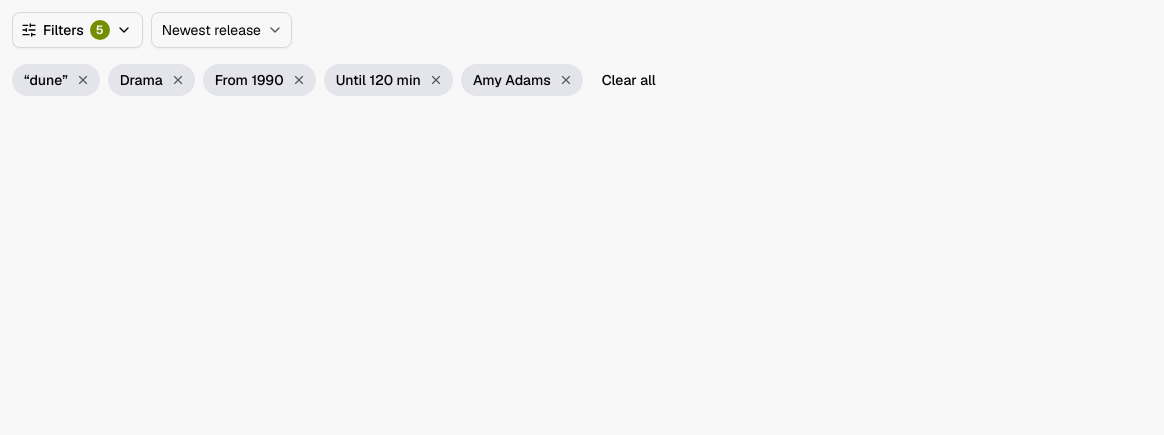
Test: MovieFilters › opens on the title, its fields filled from the URL
What coordinates should you click on to do the following:
click the button "Filters 5"
I would click on:
 (77, 30)
Its box is [12,12,143,48].
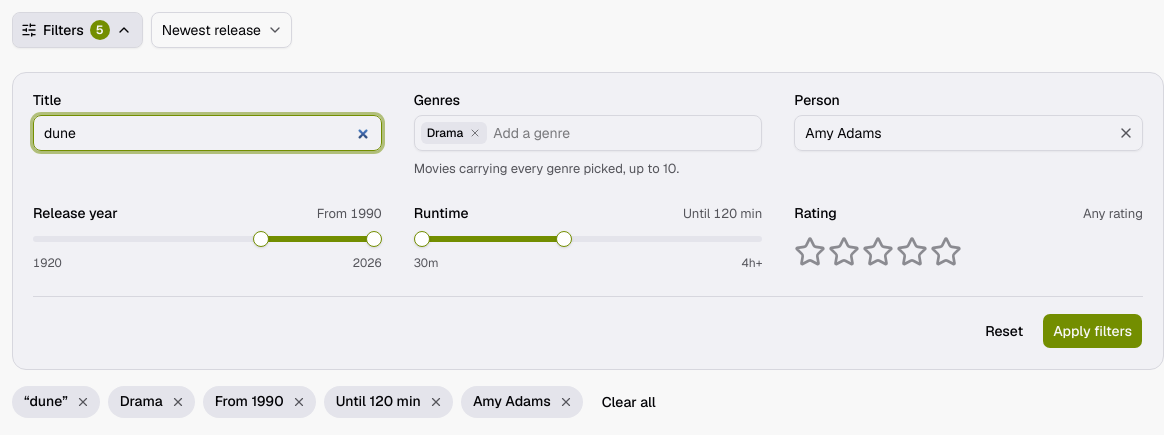
Check: the button "Filters 5" is expanded, box [12,12,143,48]
Check: the search field labelled "Title" holds "dune", box [33,115,382,151]
Check: the element named "Genres" reads "Drama", box [427,125,463,141]
